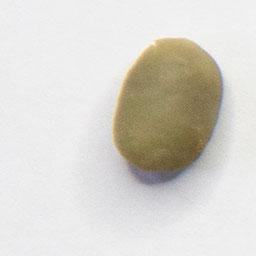peaberry: (110, 35, 226, 176)
